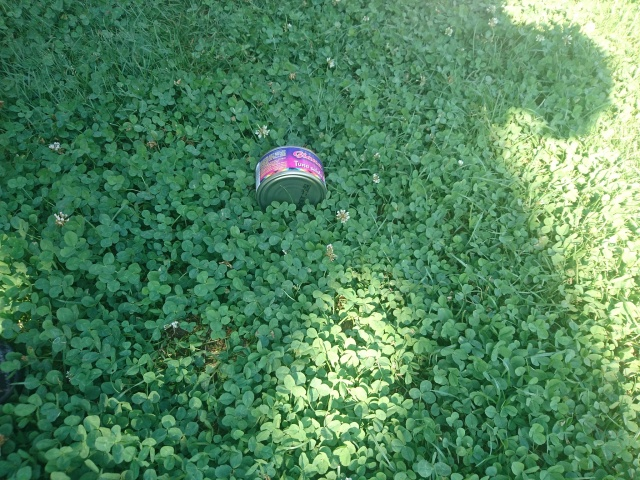Giana Tuna Salad Mexico 185g: (251, 143, 330, 222)
